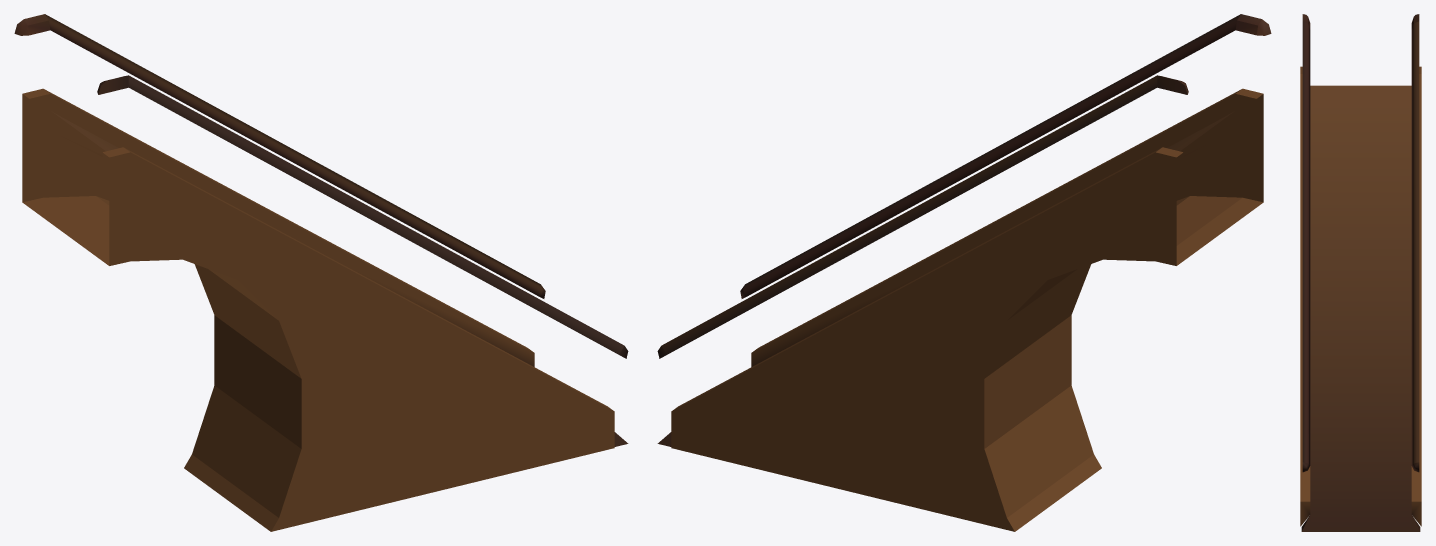
Rendered from HomeA_StairsB_COL.fbx.
3 views of the same model, side by side, from view 1: azimuth 30°, elevation 25°; view 2: azimuth 150°, elevation 25°; view 3: azimuth 270°, elevation 25° (orthographic). The views are drawn at different scales.
Parts seen in each view (by area): view 1: HomeA_StairsB_COL; view 2: HomeA_StairsB_COL; view 3: HomeA_StairsB_COL.
Part boxes in pixels (bbox=[...]): HomeA_StairsB_COL: bbox=[14, 14, 628, 531]; HomeA_StairsB_COL: bbox=[657, 14, 1271, 531]; HomeA_StairsB_COL: bbox=[1300, 14, 1421, 531].
Bounding box in the file's own units: 629 × 556 × 179.
